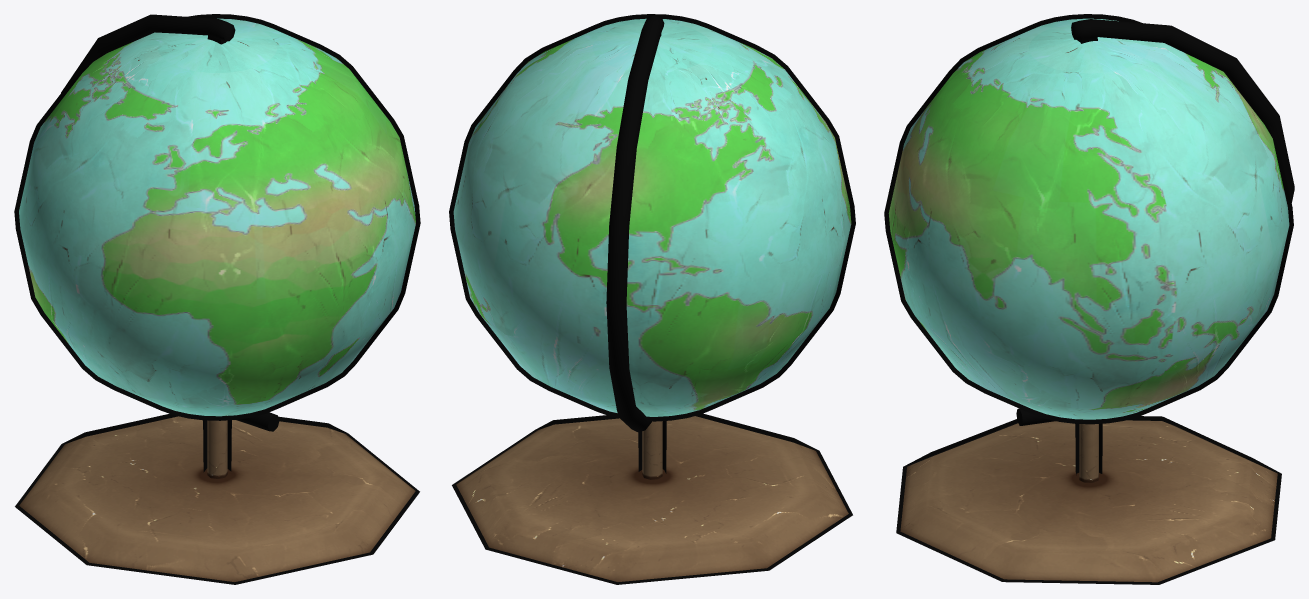
The model's file is Globe.fbx.
3 views of the same model, side by side, from view 1: azimuth 30°, elevation 25°; view 2: azimuth 150°, elevation 25°; view 3: azimuth 270°, elevation 25° (orthographic).
Parts seen in each view (by area): view 1: Globe; view 2: Globe; view 3: Globe.
Part boxes in pixels (x1,y1,x2,y2): Globe: (14,14,420,584); Globe: (449,14,855,584); Globe: (884,14,1294,584).
Size of the model in its own units: 44.53 by 57.88 by 44.54.
